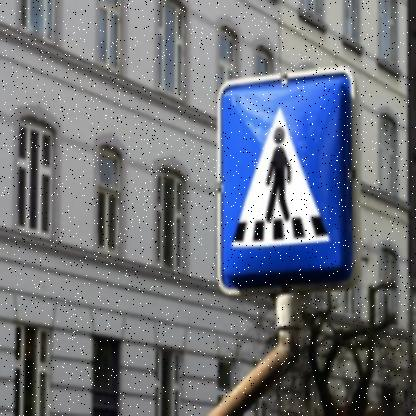Pedestrian Crossing: (228, 87, 339, 262)
